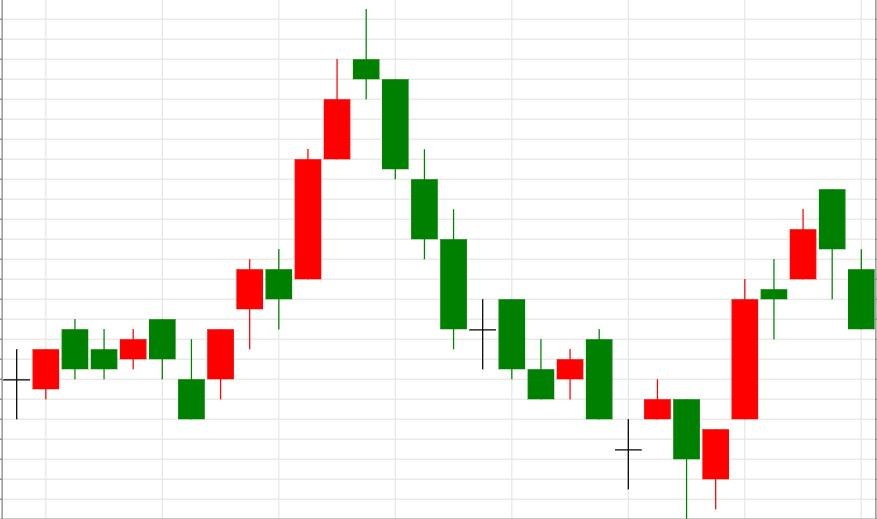evening_star_fall: (178, 9, 409, 419)
